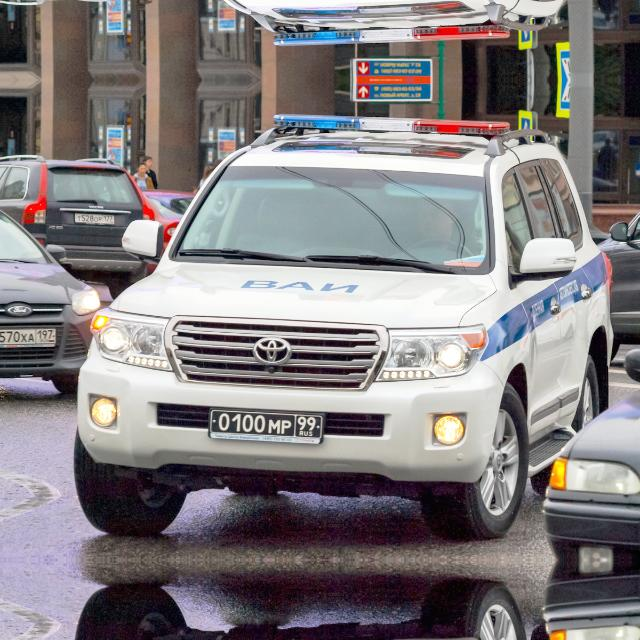citizen: (0, 322, 58, 354), (70, 208, 120, 230)
military: (204, 400, 330, 456)
